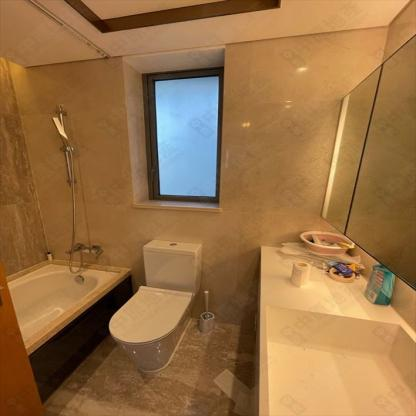Bathtub: (2, 259, 131, 402)
Toilet: (109, 238, 208, 373)
Toilet Sink: (268, 307, 415, 415)
